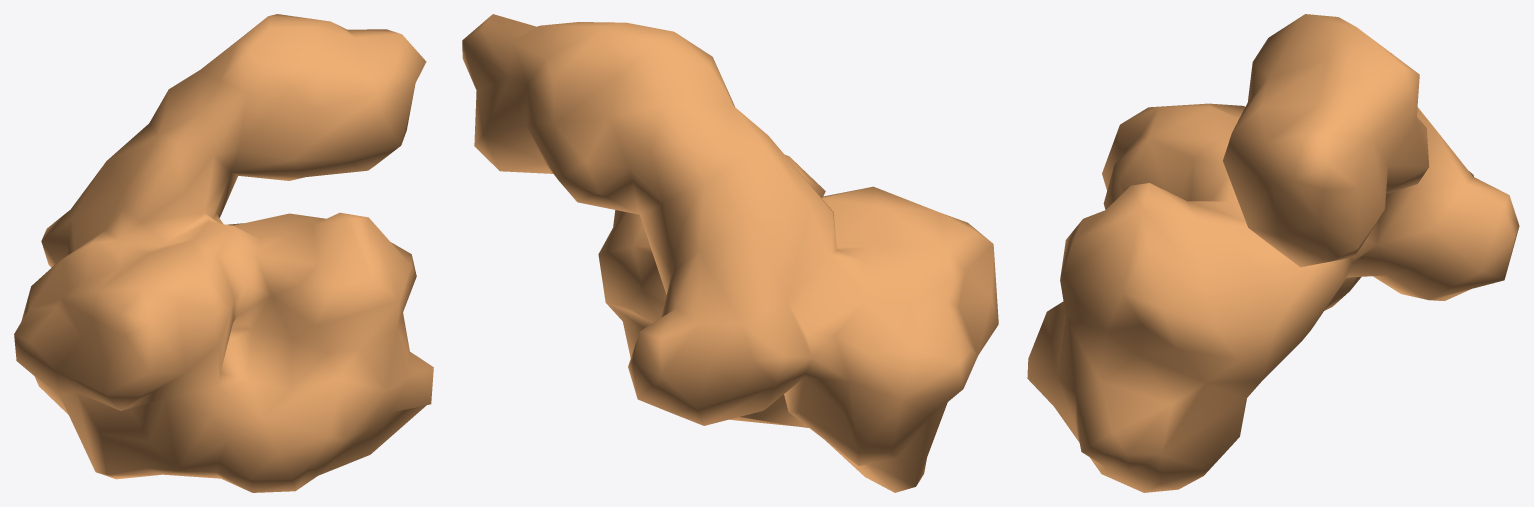
Rendered from MiinBloodPlasma_IgG3_4hdi_0_1_0.dae.
3 renders of one model, left to right at view 1: azimuth 30°, elevation 25°; view 2: azimuth 150°, elevation 25°; view 3: azimuth 270°, elevation 25°, orthographic. The views are drawn at different scales.
Visible parts, largest first — view 1: CoarseMS_4hdi; view 2: CoarseMS_4hdi; view 3: CoarseMS_4hdi.
Boxes of the visible parts, <box> form: CoarseMS_4hdi: <box>14,14,433,492</box>; CoarseMS_4hdi: <box>462,14,998,492</box>; CoarseMS_4hdi: <box>1027,14,1519,492</box>.
Bounding box in the file's own units: 92.68 × 81.81 × 77.84.
